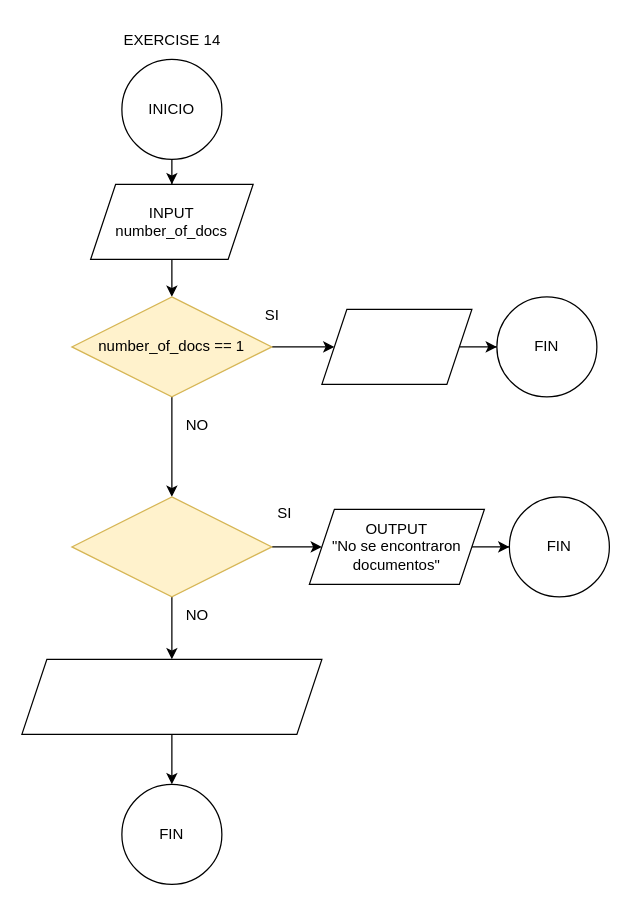
Some shapes in this 631 by 906 pixel diagram are drawn without their labels. The shapes that lost their labels are listed below. From the top down, each one's centre as x and y in pixels, then its label:
pixel 396 346: OUTPUT "Se encontro un documento"
pixel 171 546: number_of_docs <= 0
pixel 171 696: number_of_docs, " ", "documentos encontrados"
